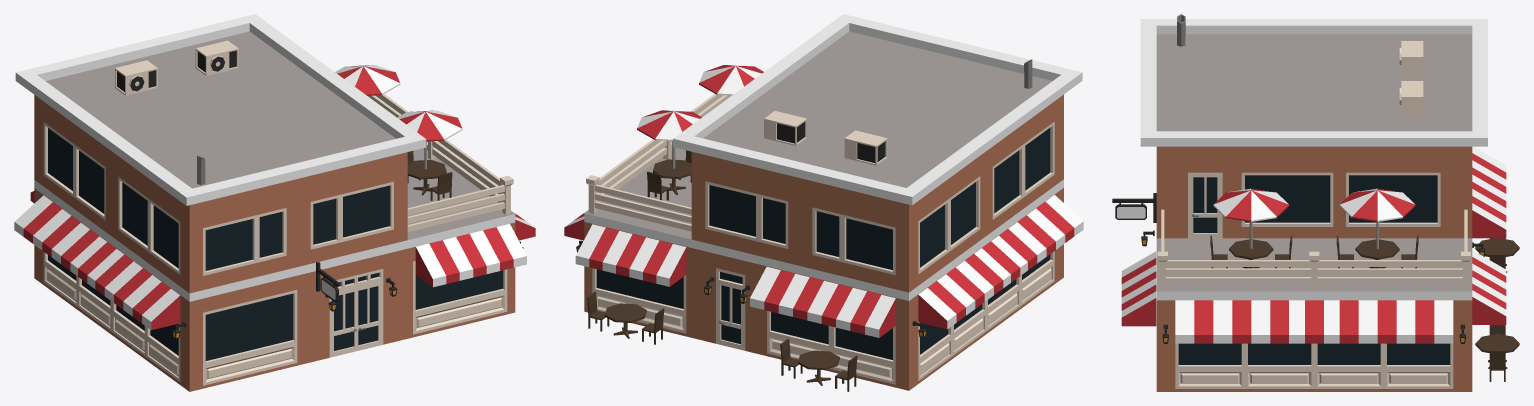
Rendered from building-restaurant.glb.
3 views of the same model, side by side, from view 1: azimuth 30°, elevation 25°; view 2: azimuth 150°, elevation 25°; view 3: azimuth 270°, elevation 25° (orthographic).
Visible parts, largest first — view 1: building-restaurant; view 2: building-restaurant; view 3: building-restaurant.
Boxes of the visible parts, x1,y1,x2,y2 form: building-restaurant: [14, 14, 535, 391]; building-restaurant: [564, 14, 1083, 391]; building-restaurant: [1112, 14, 1519, 391].
Size of the model in its own units: 14.28 by 7.9 by 12.9.
1 material, 1 textured.
